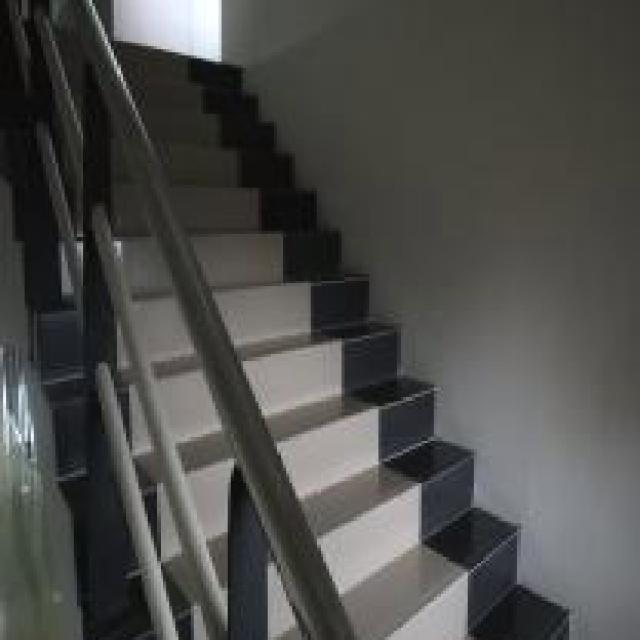upstair: (355, 382, 564, 640)
